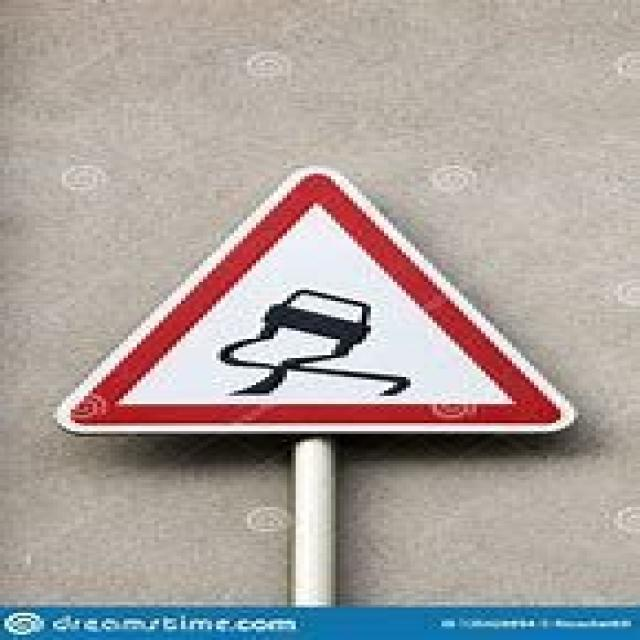slippery road: (61, 159, 572, 442)
